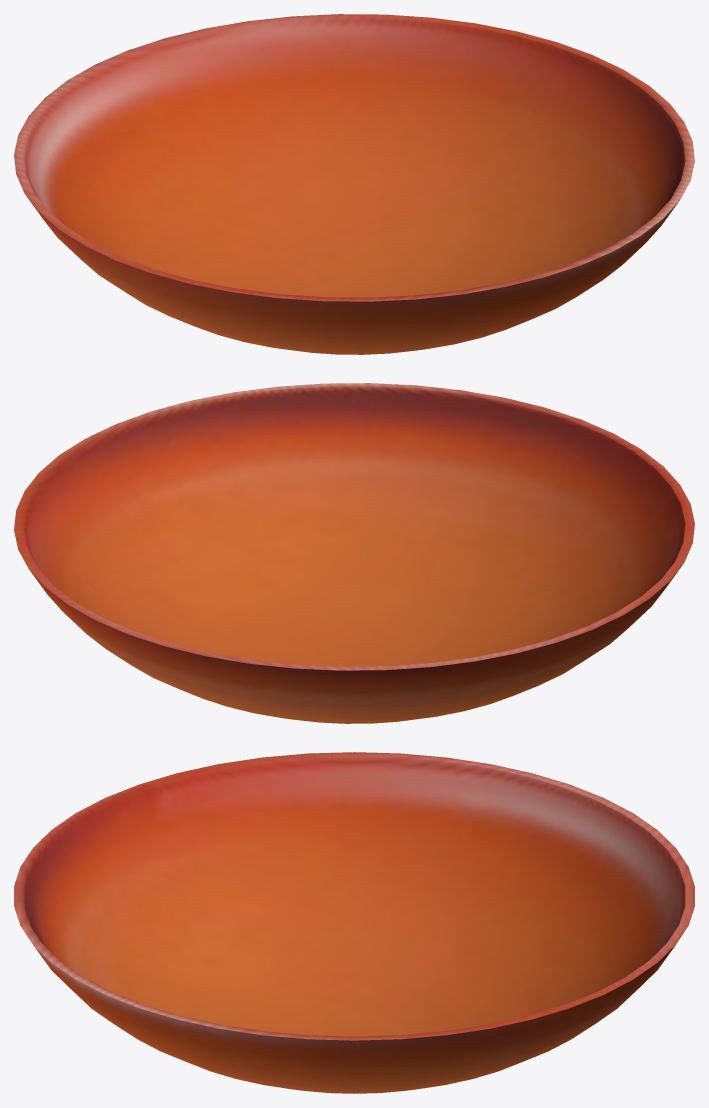
The model's file is ExportLibraryBowl.FBX.
3 views of the same model, one above another, from view 1: azimuth 30°, elevation 25°; view 2: azimuth 150°, elevation 25°; view 3: azimuth 270°, elevation 25° (orthographic).
Parts seen in each view (by area): view 1: plate; view 2: plate; view 3: plate.
Boxes of the visible parts, bbox=[...] form: plate: bbox=[14, 14, 694, 354]; plate: bbox=[14, 383, 694, 723]; plate: bbox=[14, 752, 694, 1093].
Size of the model in its own units: 19.21 by 19.17 by 4.69.
